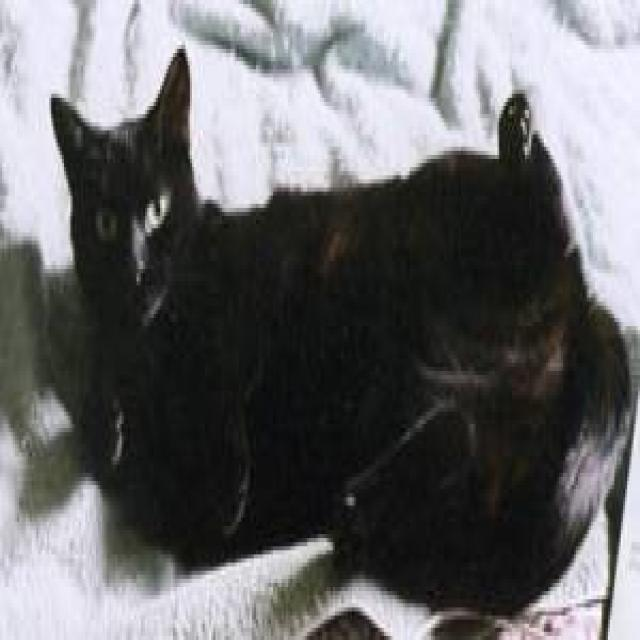Bombay: (45, 39, 225, 342)
